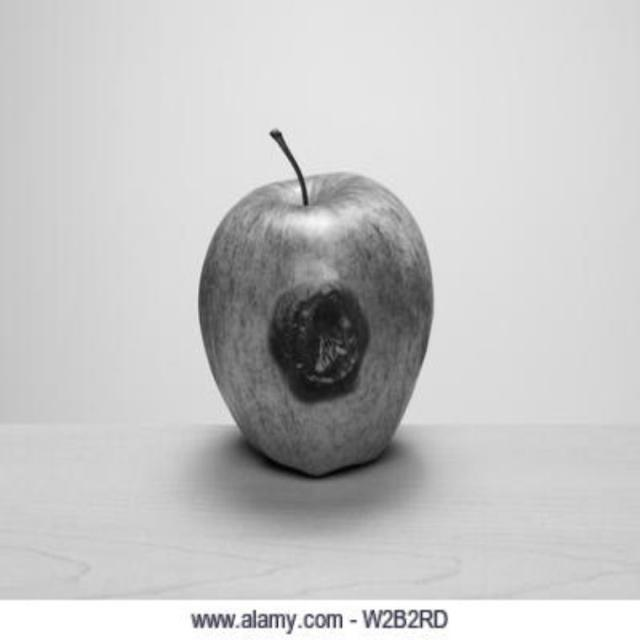Rotten Apple: (192, 146, 467, 504)
